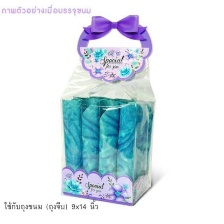snack: (49, 6, 162, 210)
